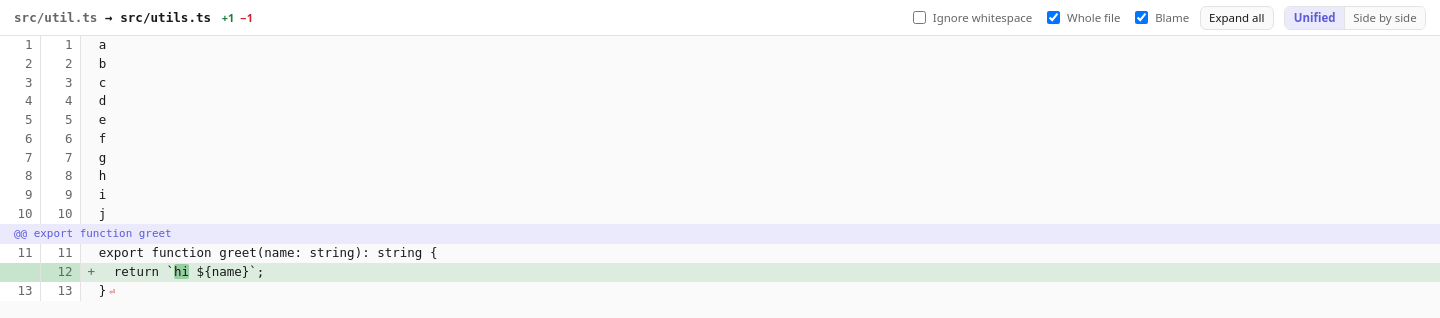
it: DiffView › whole-file mode expands every gap and blame annotates the focused line
The width and height of the screenshot is (1440, 318).
Hover over the row "12 + return `hi ${name}`;": (720, 272) [0,263,1439,282]
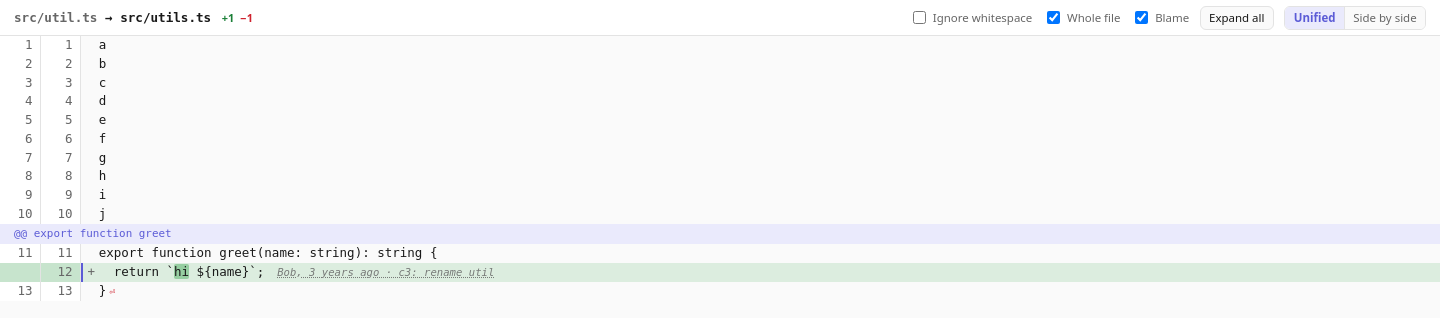
Click the 2nd button: (386, 273) [277,265,494,281]
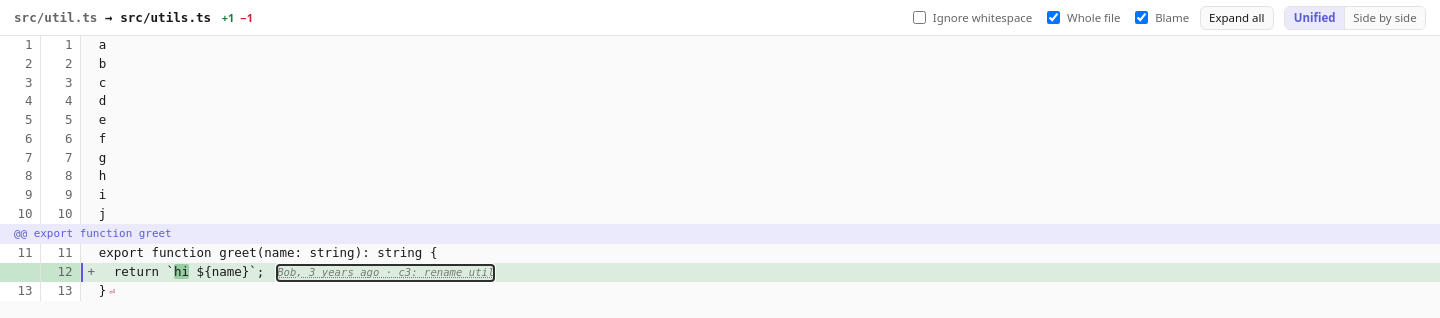
Hover over the row with class "ctx" showing "1 1 a": (20, 46) [0,36,1439,55]
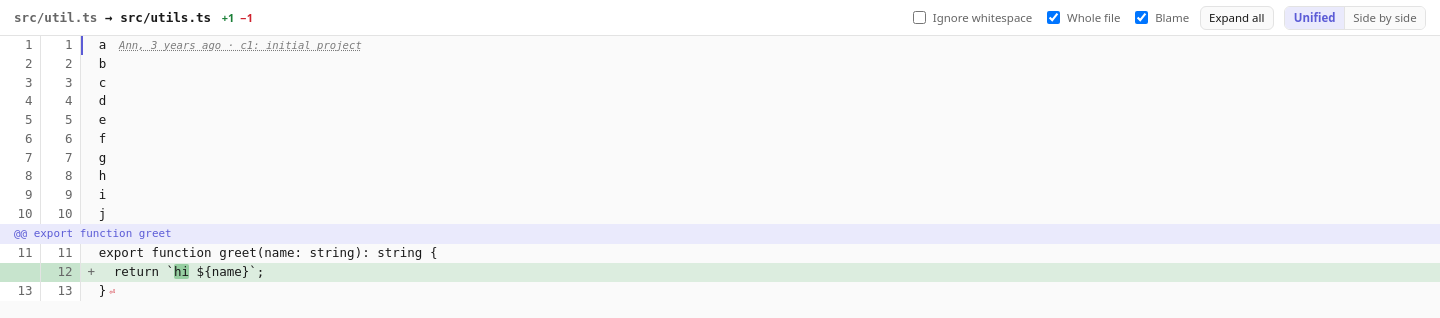
Expected: the checkbox labelled "Whole file" is checked, [1047,11,1060,24]
Result: the element with test id "blame-note" shows "Ann" at [119,38,362,54]
